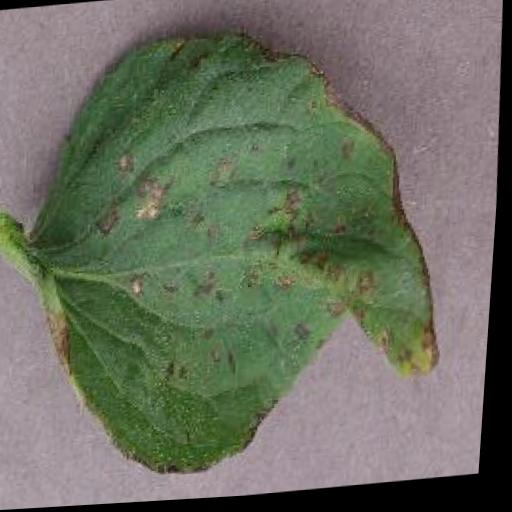Bacterial Spot: (0, 0, 481, 499)
